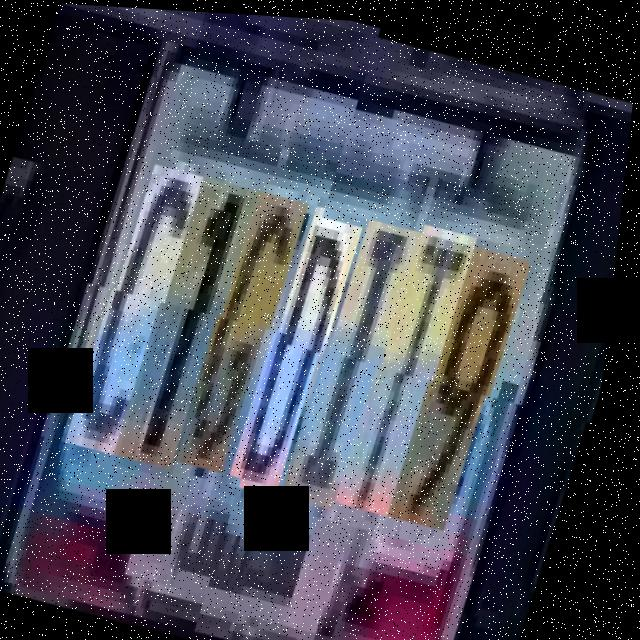1: (125, 180, 262, 479)
9: (402, 238, 537, 528)
C: (75, 168, 210, 466)
D: (241, 208, 368, 497)
G: (184, 194, 311, 483)
I: (293, 213, 428, 511)
T: (349, 216, 483, 514)
